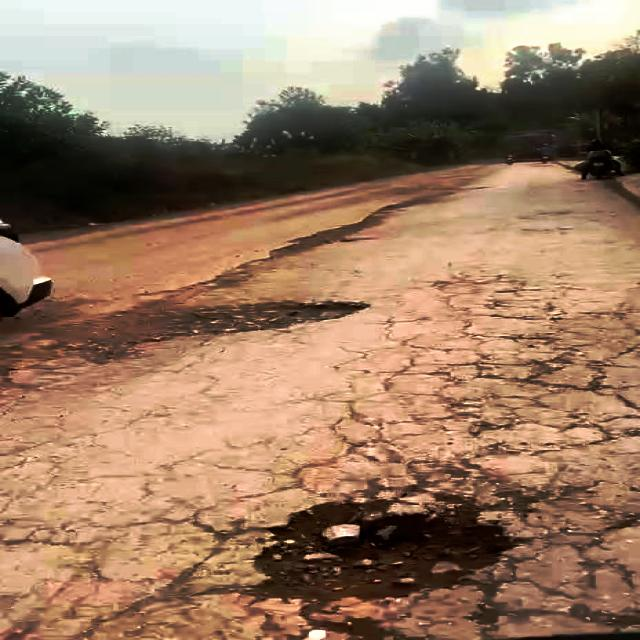pothole: (248, 485, 548, 640), (64, 296, 380, 360)
